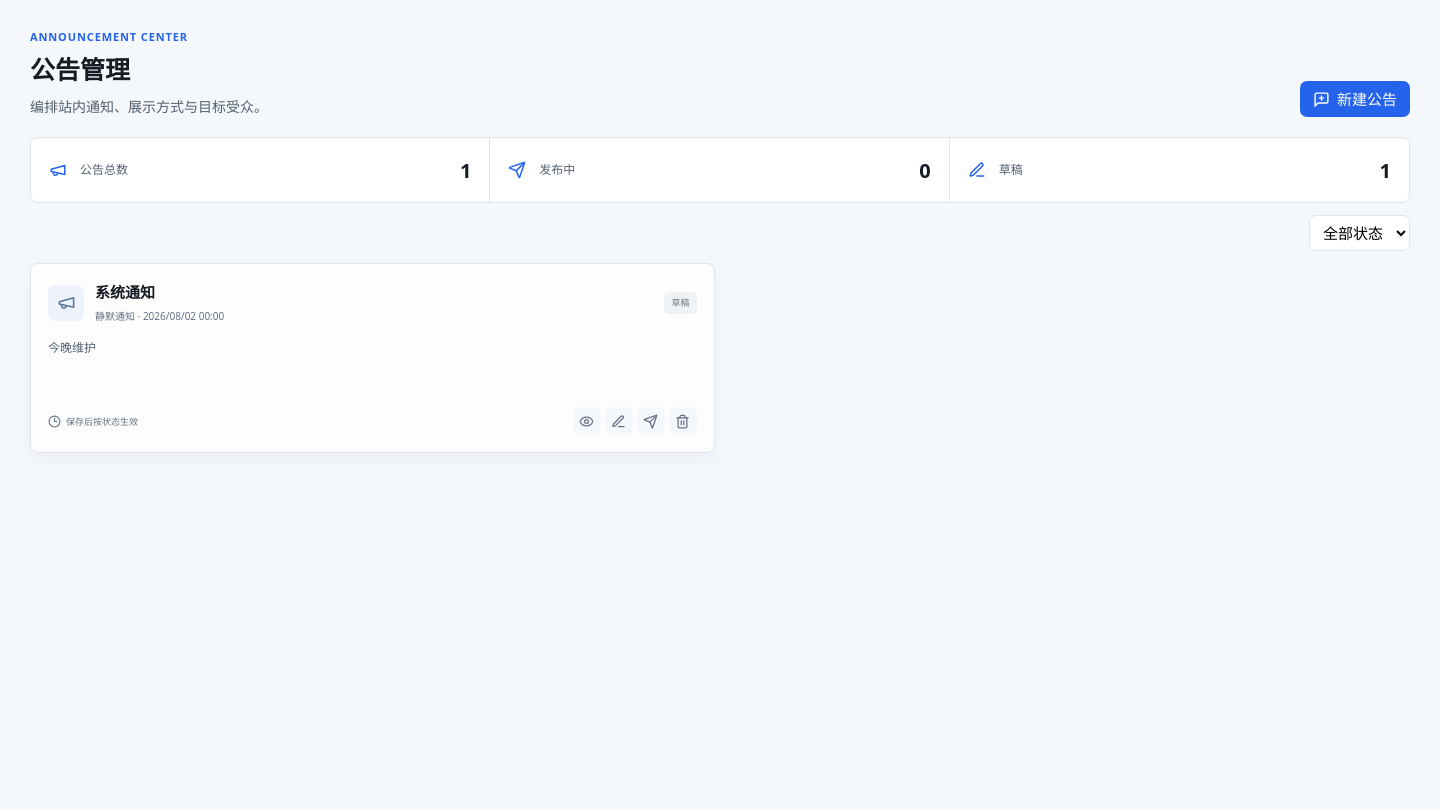
Test: AdminAnnouncementsView › opens read status for an announcement
Click the button with test id "read-announcement-8" at [586, 422], box [572, 408, 600, 436]
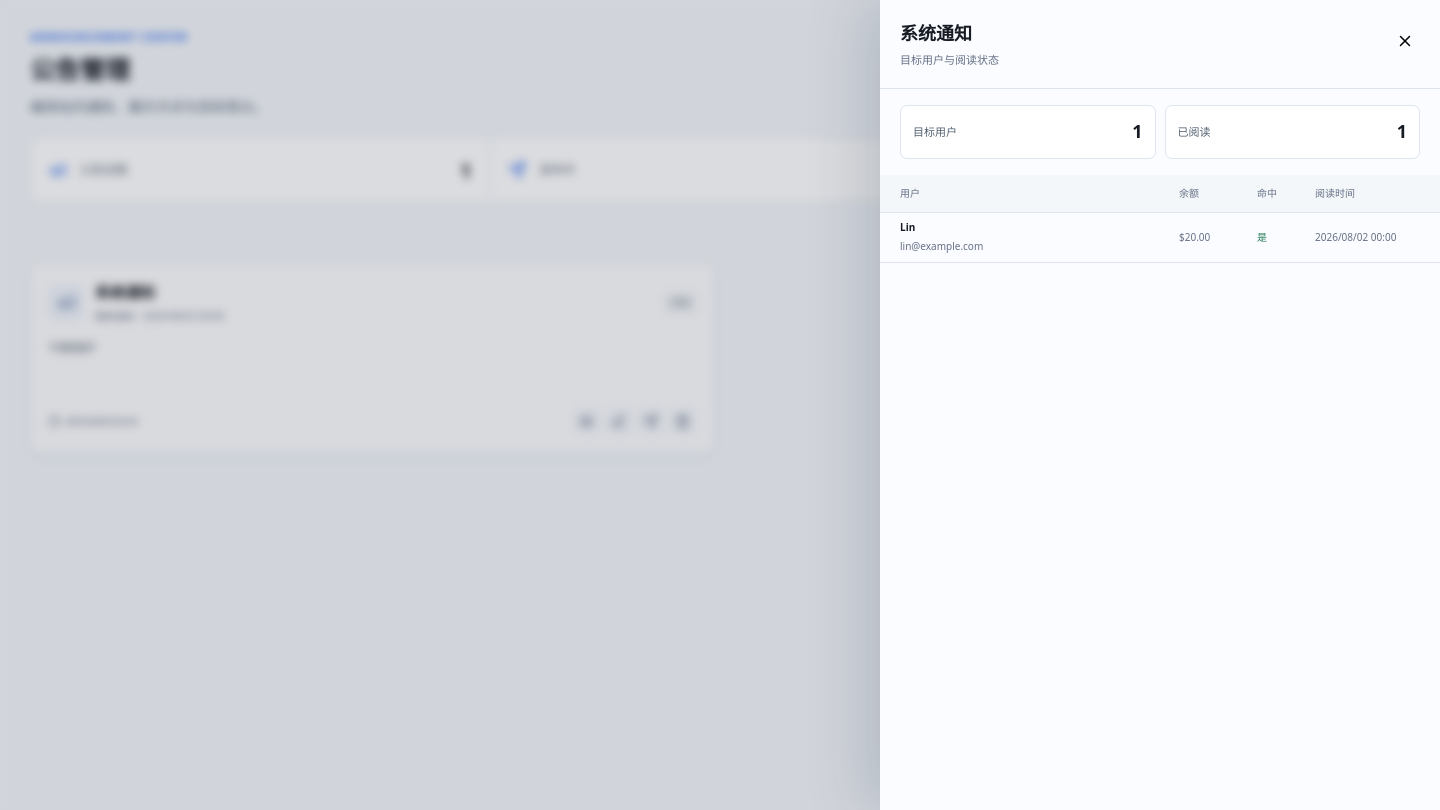
Expected: the element with test id "announcement-read-status" shows "lin@example.com", [900, 239, 983, 253]
